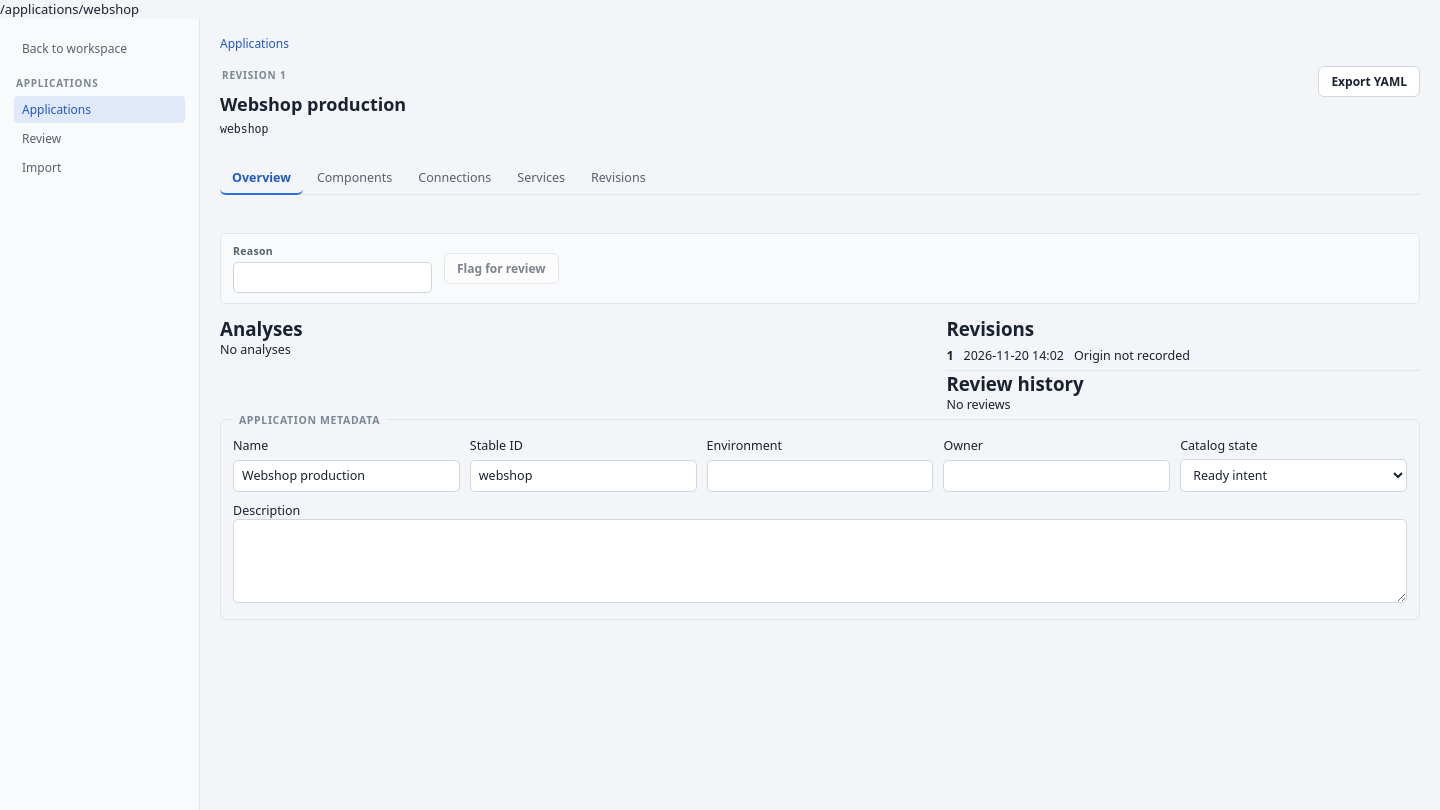
Test: Unsaved changes › asks before a link leaves an application with unsaved changes, and Stay keeps the draft
Type " 2" into the field labelled "Name".
click(346, 476); type(" 2")  # box x1=233 y1=460 x2=460 y2=492
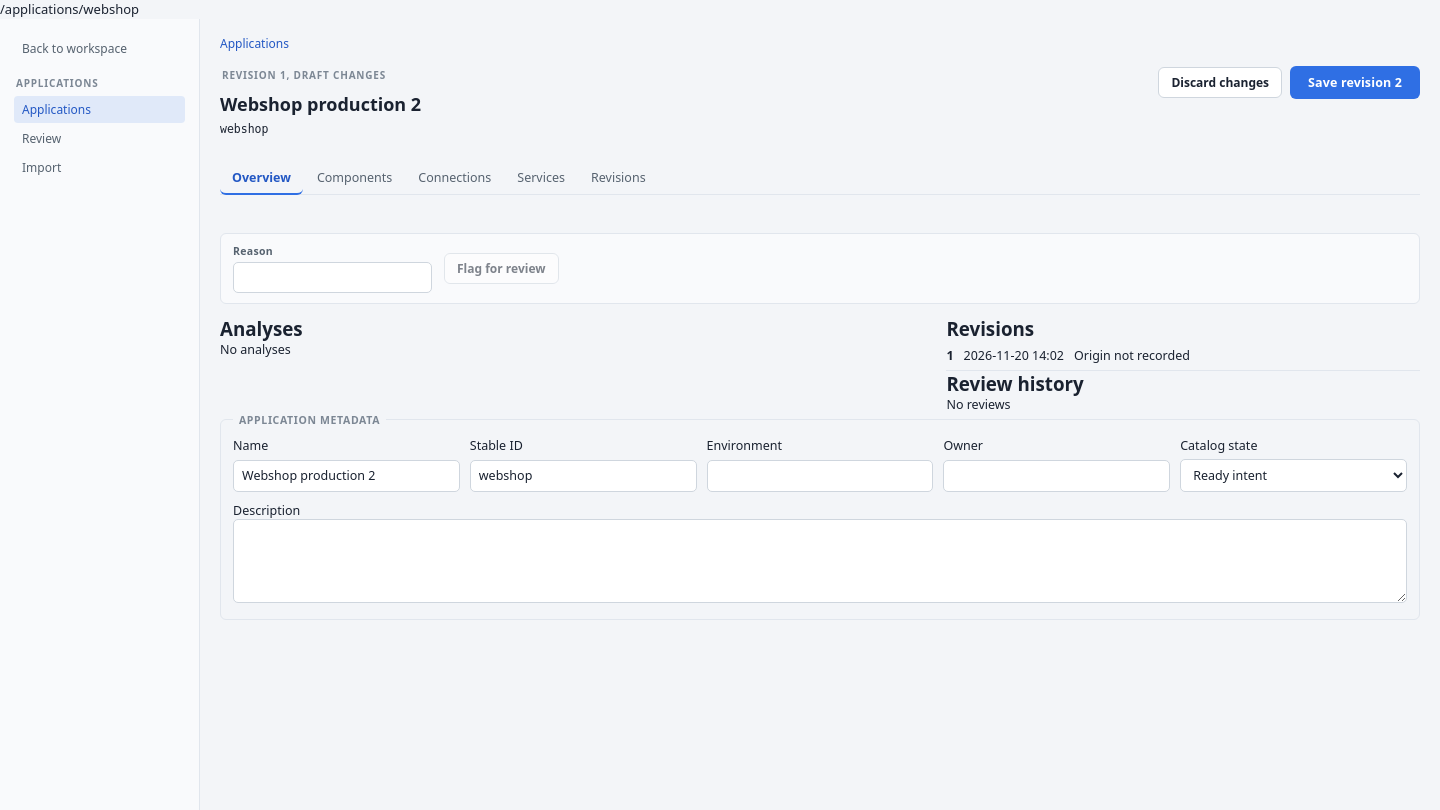
Expected: the text "Revision 1, draft changes" is shown, x1=222 y1=68 x2=386 y2=82
Click the 1st link "Applications".
click(254, 43)  # box x1=220 y1=35 x2=289 y2=52
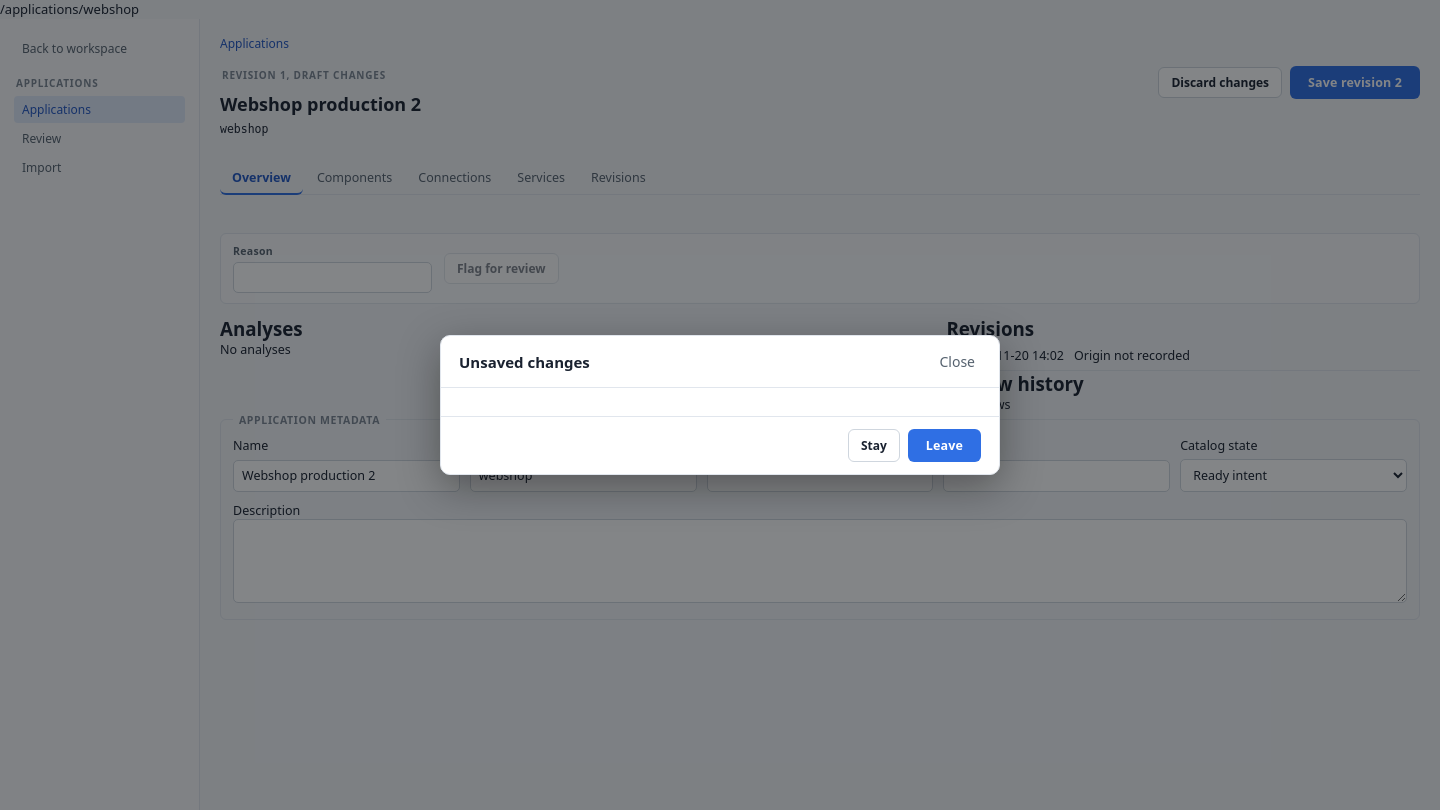
Expected: the text named "Location" reads "/applications/webshop", x1=0 y1=0 x2=139 y2=18
Click the button "Stay".
click(874, 446)  # box x1=848 y1=429 x2=900 y2=462
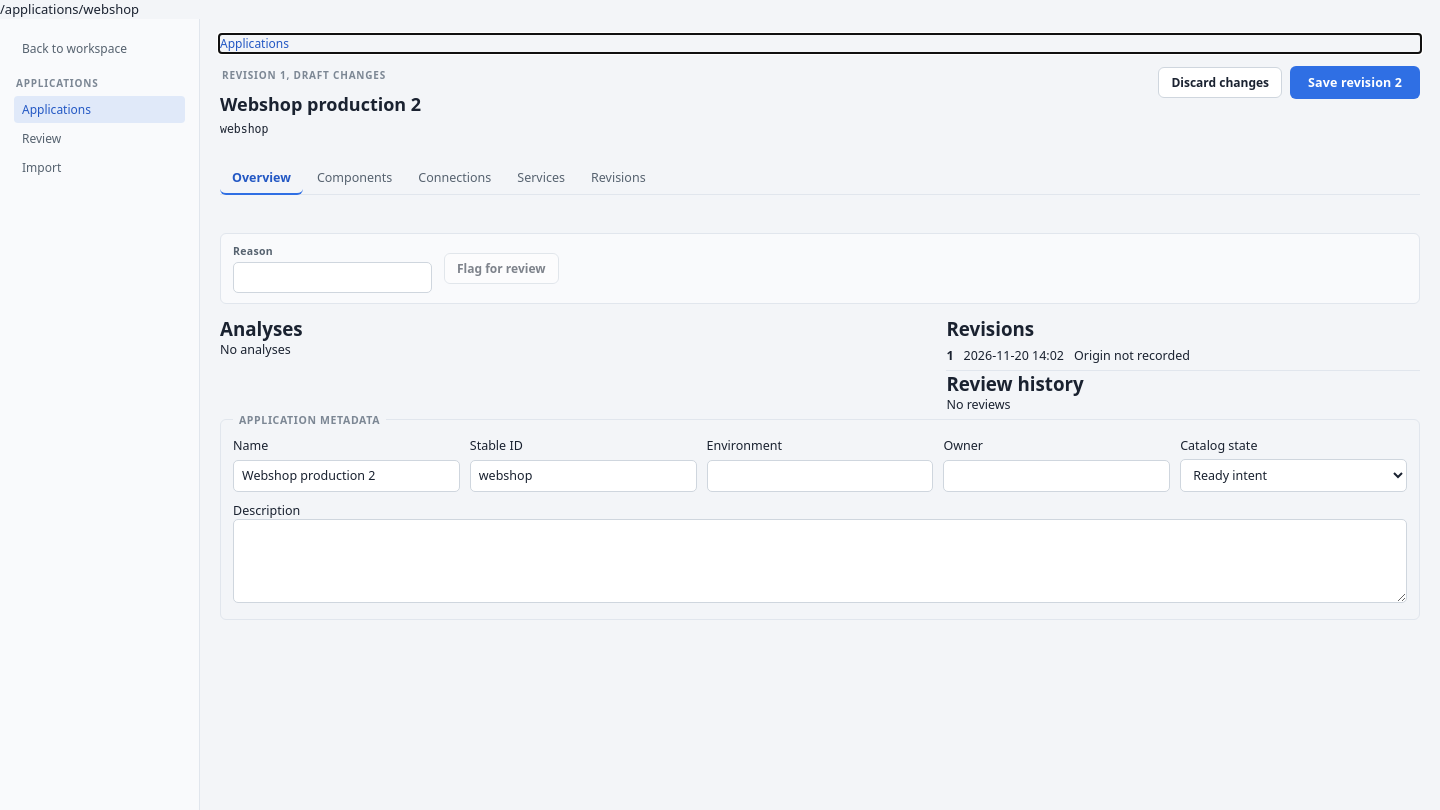
Expected: the text named "Location" reads "/applications/webshop", x1=0 y1=0 x2=139 y2=18
Expected: the field labelled "Name" holds "Webshop production 2", x1=233 y1=460 x2=460 y2=492
Expected: the dialog is gone
